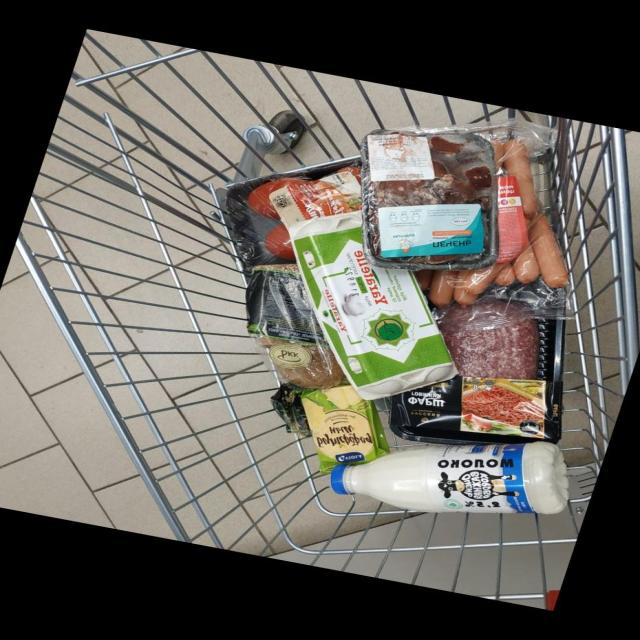Bread: (245, 264, 345, 436)
Cheese: (300, 385, 390, 474)
Eggs: (290, 213, 457, 400)
Meat: (388, 298, 563, 445), (361, 130, 499, 270)
Milk: (329, 441, 568, 515)
Sausages: (414, 119, 568, 318)
Tomatoes: (246, 177, 302, 219), (264, 223, 295, 261), (335, 166, 361, 182)
